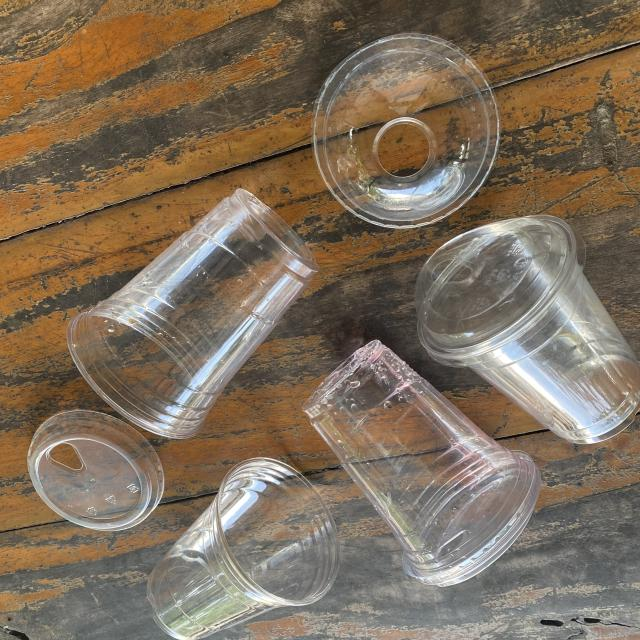plastik: (67, 190, 318, 438), (303, 341, 540, 586), (415, 215, 640, 444), (312, 34, 500, 228), (147, 458, 339, 640), (28, 411, 165, 531)
